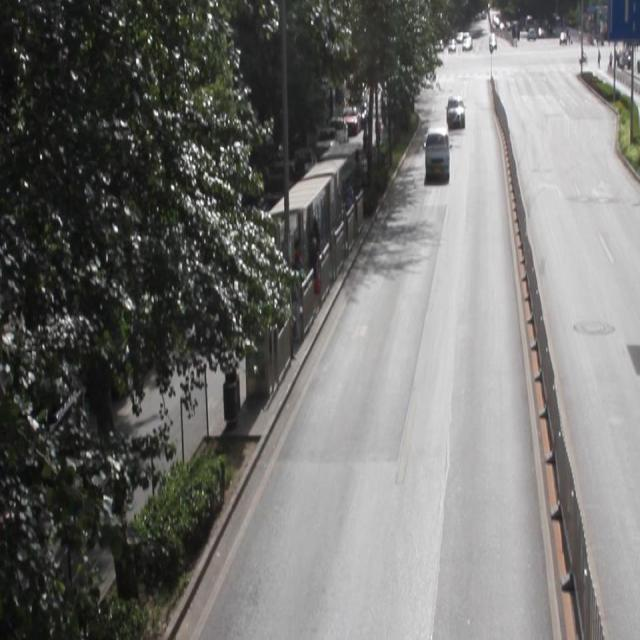truck: (425, 127, 448, 182)
